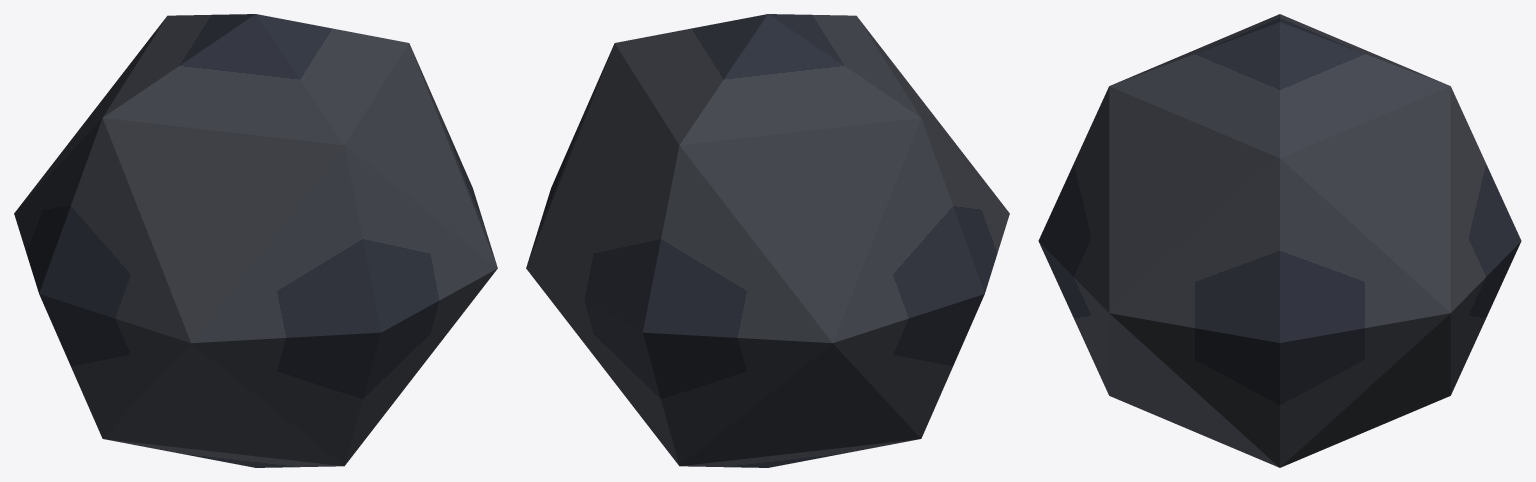
The model's file is lead_pipe_core.obj.
3 views of the same model, side by side, from view 1: azimuth 30°, elevation 25°; view 2: azimuth 150°, elevation 25°; view 3: azimuth 270°, elevation 25° (orthographic). The views are drawn at different scales.
Parts seen in each view (by area): view 1: core; view 2: core; view 3: core.
Boxes of the visible parts, box(x1,y1,x2,y2) form: core: box(14, 14, 497, 467); core: box(526, 14, 1009, 467); core: box(1038, 14, 1521, 467).
Size of the model in its own units: 0.375 by 0.375 by 0.375.
